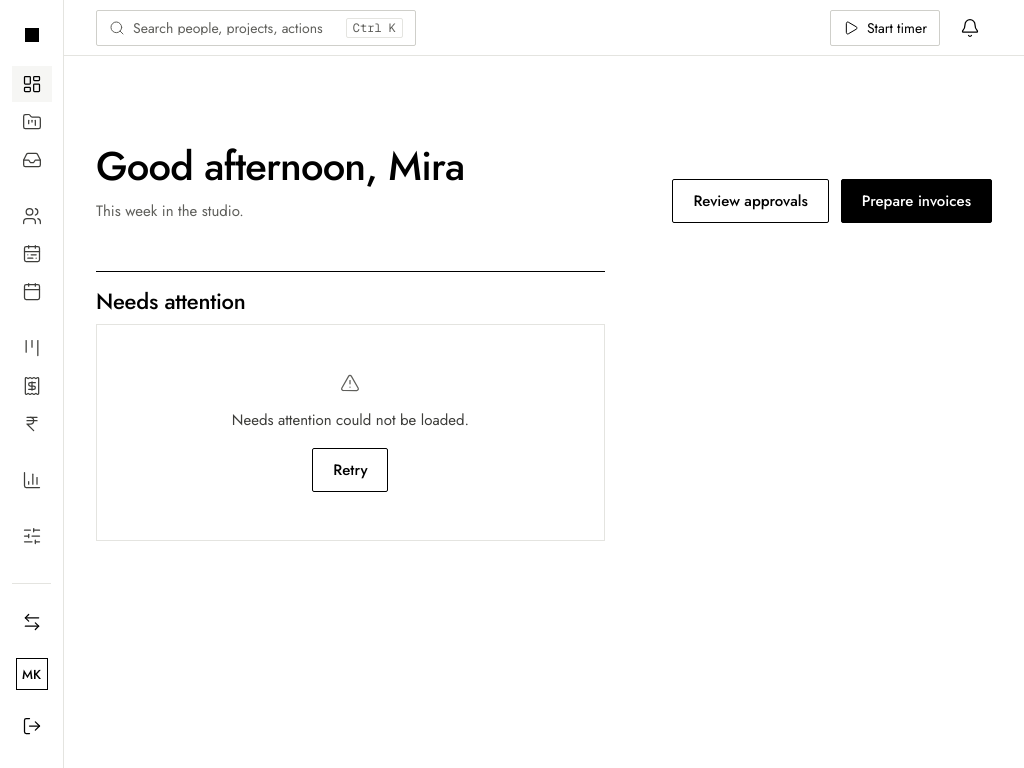
it: live mode shows no sample data › the notifications panel is empty, not sample
Click the button named "notifications" at (970, 28), box [948,6,992,50]
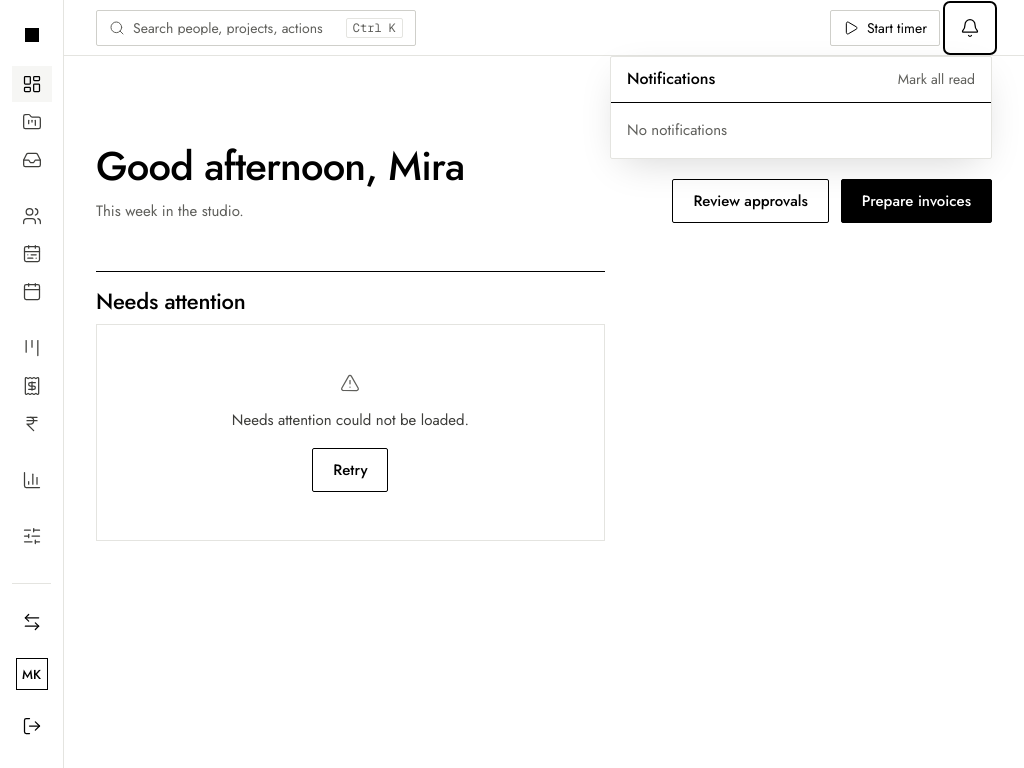
expect the text "No notifications" is shown: met, box [627,119,727,141]
